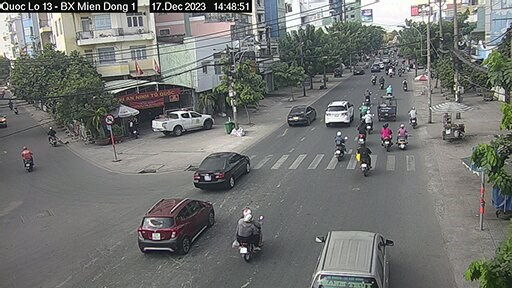car: (309, 210, 407, 288), (129, 186, 219, 249), (182, 147, 267, 188), (145, 112, 217, 135), (289, 101, 320, 137), (328, 95, 359, 131)
motorbike: (229, 202, 264, 259), (354, 147, 381, 179), (335, 132, 352, 165)
